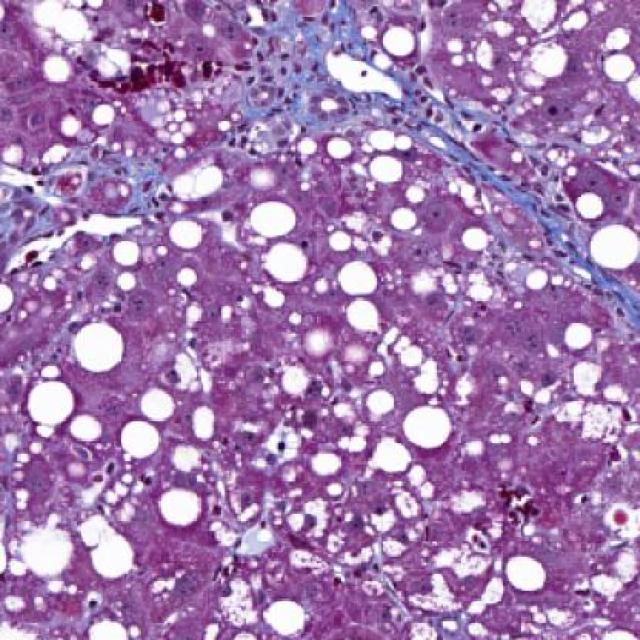fibrosis: (230, 40, 418, 151), (462, 146, 598, 279), (52, 125, 173, 212)
